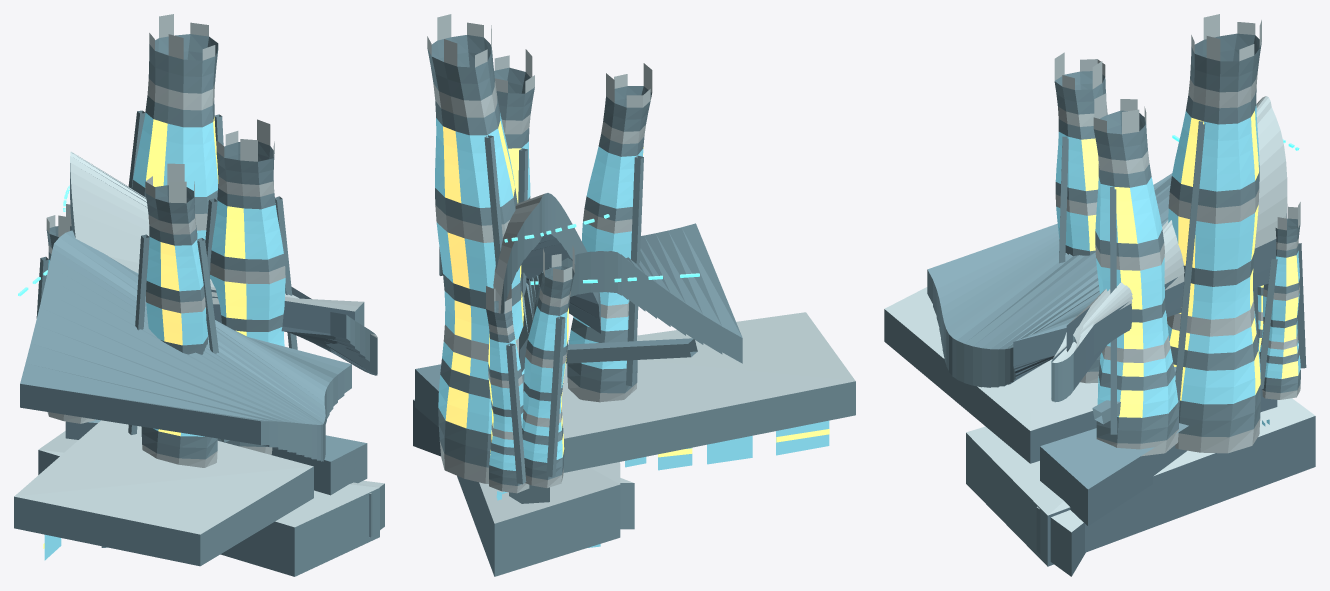
Rendered from P101_A13_W9C2_G4E7BO_PINCH_SWITCH_FRAMED_LOCAL.glb.
3 views of the same model, side by side, from view 1: azimuth 30°, elevation 25°; view 2: azimuth 150°, elevation 25°; view 3: azimuth 270°, elevation 25° (orthographic). The views are drawn at different scales.
Visible parts, largest first — view 1: HOLLOW CONTINENT | actual BC road2 world space; view 2: HOLLOW CONTINENT | actual BC road2 world space; view 3: HOLLOW CONTINENT | actual BC road2 world space.
Boxes of the visible parts, <box> form: HOLLOW CONTINENT | actual BC road2 world space: <box>14,14,384,576</box>; HOLLOW CONTINENT | actual BC road2 world space: <box>413,14,855,576</box>; HOLLOW CONTINENT | actual BC road2 world space: <box>884,14,1315,576</box>.
Bounding box in the file's own units: 323 × 376 × 298.
